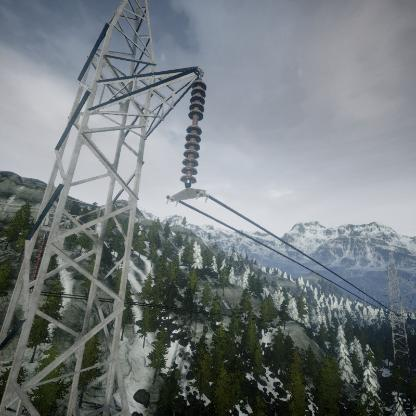insulator: (179, 77, 209, 188)
